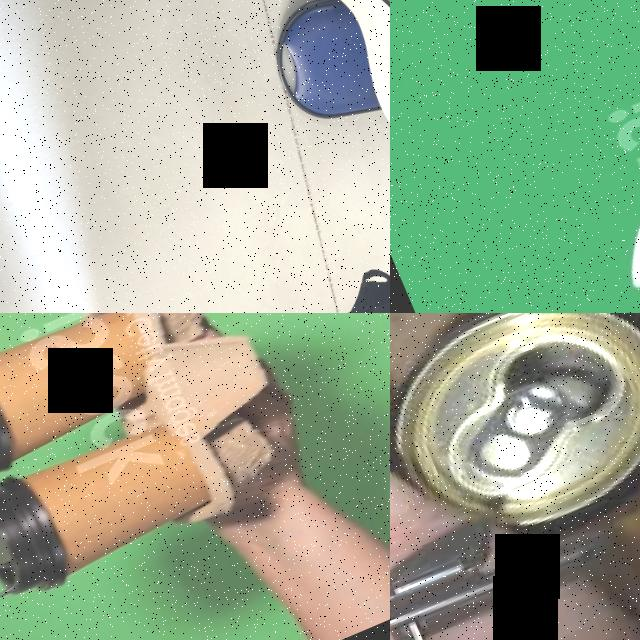cup: (0, 405, 220, 610), (0, 313, 170, 494)
